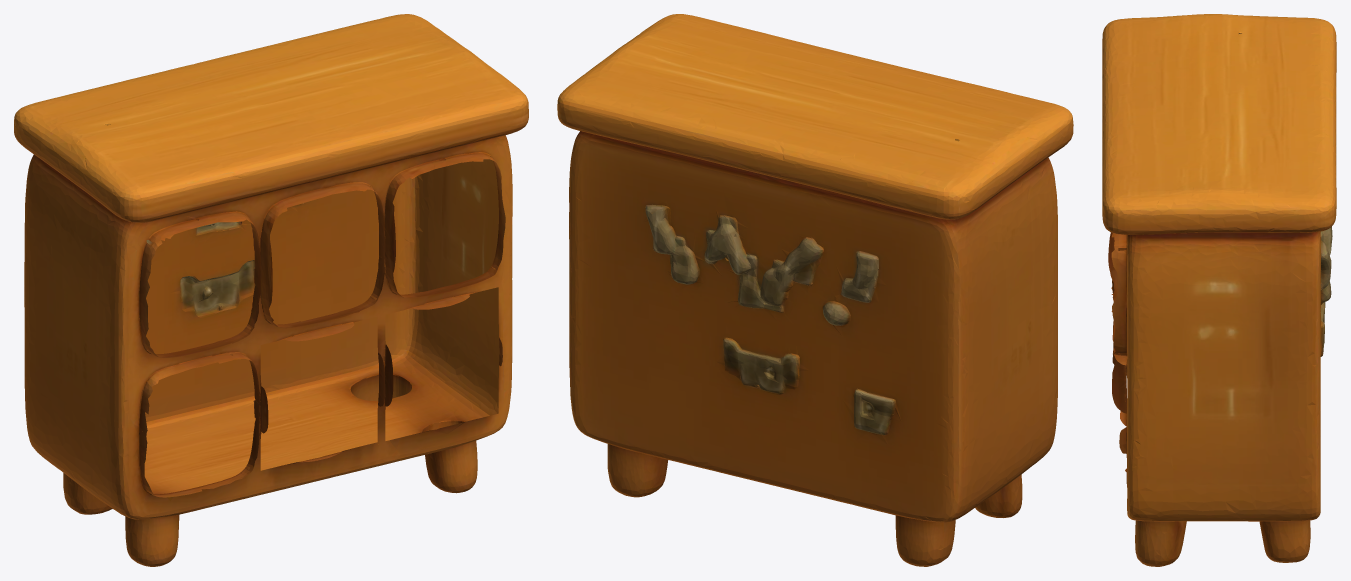
The model's file is body.glb.
3 renders of one model, left to right at view 1: azimuth 30°, elevation 25°; view 2: azimuth 150°, elevation 25°; view 3: azimuth 270°, elevation 25°, orthographic. The views are drawn at different scales.
Parts seen in each view (by area): view 1: source_surface_0; view 2: source_surface_0; view 3: source_surface_0.
Part boxes in pixels (bbox=[...]): source_surface_0: bbox=[14, 14, 528, 566]; source_surface_0: bbox=[557, 14, 1073, 566]; source_surface_0: bbox=[1102, 14, 1336, 566].
Size of the model in its own units: 0.35 by 0.3313 by 0.1807.
Materials: 1 (1 with a texture image).
